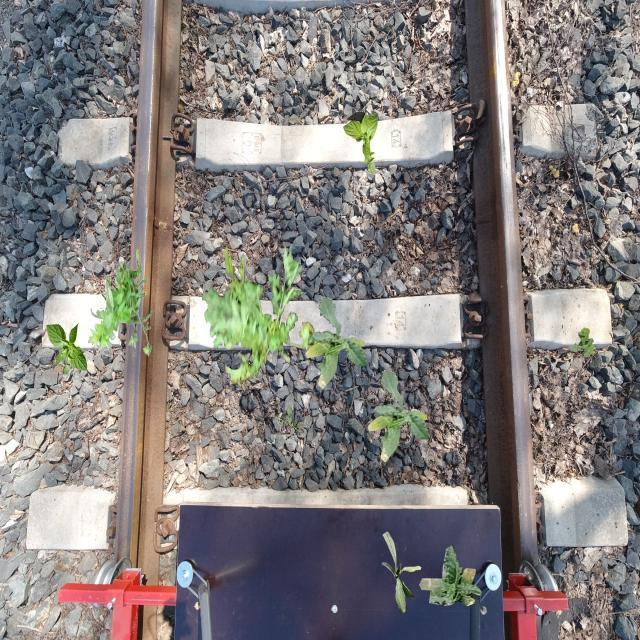Plant: (202, 243, 327, 390), (88, 249, 152, 356), (367, 369, 430, 462), (305, 296, 368, 389), (419, 544, 482, 606), (382, 531, 422, 614), (46, 322, 88, 376), (343, 112, 378, 174), (276, 405, 304, 436), (573, 327, 597, 358)
